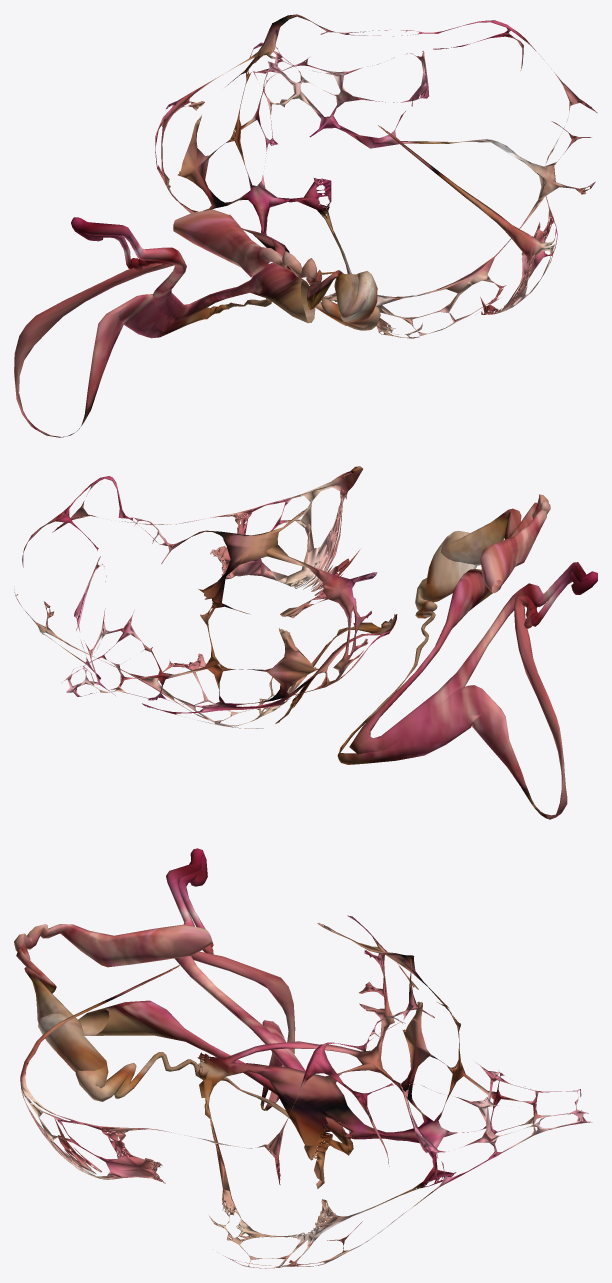
Rendered from particle.glb.
3 views of the same model, one above another, from view 1: azimuth 30°, elevation 25°; view 2: azimuth 150°, elevation 25°; view 3: azimuth 270°, elevation 25° (orthographic). The views are drawn at different scales.
Parts seen in each view (by area): view 1: drawsel.001; view 2: drawsel.001; view 3: drawsel.001.
Part boxes in pixels (<box>): drawsel.001: <box>14,14,597,437</box>; drawsel.001: <box>14,466,597,819</box>; drawsel.001: <box>14,848,592,1268</box>.
Size of the model in its own units: 1039 by 504 by 883.
1 material, 1 textured.
